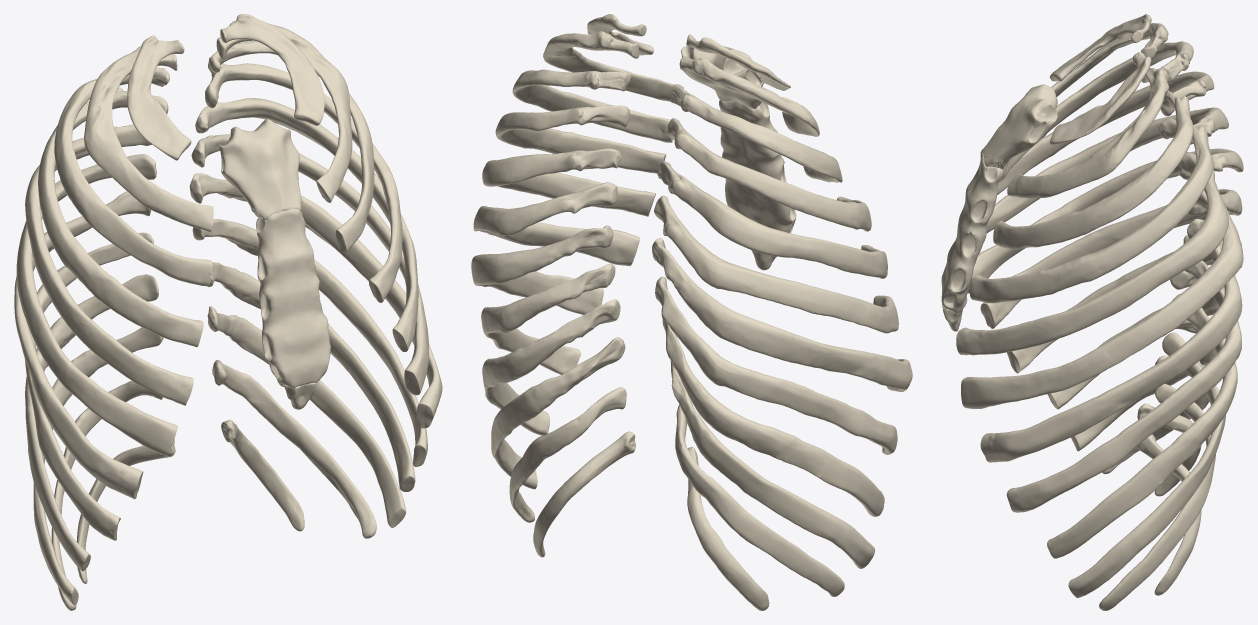
The model's file is region-3.glb.
3 views of the same model, side by side, from view 1: azimuth 30°, elevation 25°; view 2: azimuth 150°, elevation 25°; view 3: azimuth 270°, elevation 25° (orthographic). The views are drawn at different scales.
Visible parts, largest first — view 1: bone_sternum_M, bone_rib_06_R, bone_rib_04_R, bone_rib_05_R, bone_rib_03_R, bone_rib_02_R, bone_rib_07_R, bone_rib_05_L, bone_rib_08_L, bone_rib_10_L, bone_rib_07_L, bone_rib_11_L (+13 smaller); view 2: bone_rib_07_R, bone_rib_06_R, bone_rib_08_R, bone_sternum_M, bone_rib_09_R, bone_rib_05_R, bone_rib_10_R, bone_rib_06_L, bone_rib_05_L, bone_rib_04_L, bone_rib_07_L, bone_rib_11_R (+13 smaller); view 3: bone_rib_06_L, bone_rib_05_L, bone_rib_07_L, bone_sternum_M, bone_rib_04_L, bone_rib_08_L, bone_rib_03_L, bone_rib_09_L, bone_rib_10_L, bone_rib_02_L, bone_rib_07_R, bone_rib_11_L (+13 smaller).
Boxes of the visible parts, <box> form: bone_sternum_M: <box>219,119,330,409</box>; bone_rib_06_R: <box>16,154,177,456</box>; bone_rib_04_R: <box>38,87,203,347</box>; bone_rib_05_R: <box>25,124,193,405</box>; bone_rib_03_R: <box>54,67,212,286</box>; bone_rib_02_R: <box>84,46,213,232</box>; bone_rib_07_R: <box>14,191,151,499</box>; bone_rib_05_L: <box>195,98,418,351</box>; bone_rib_08_L: <box>192,219,427,466</box>; bone_rib_10_L: <box>207,306,406,527</box>; bone_rib_07_L: <box>189,173,442,428</box>; bone_rib_11_L: <box>212,360,376,538</box>; bone_rib_07_R: <box>652,238,912,391</box>; bone_rib_06_R: <box>654,195,898,333</box>; bone_rib_08_R: <box>655,276,897,454</box>; bone_sternum_M: <box>681,41,796,270</box>; bone_rib_09_R: <box>662,319,884,516</box>; bone_rib_05_R: <box>657,161,887,278</box>; bone_rib_10_R: <box>670,360,875,568</box>; bone_rib_06_L: <box>473,182,639,266</box>; bone_rib_05_L: <box>482,148,655,216</box>; bone_rib_04_L: <box>495,105,666,173</box>; bone_rib_07_L: <box>471,225,613,314</box>; bone_rib_11_R: <box>675,404,844,596</box>; bone_rib_06_L: <box>961,186,1243,408</box>; bone_rib_05_L: <box>956,152,1228,355</box>; bone_rib_07_L: <box>980,219,1242,462</box>; bone_sternum_M: <box>941,84,1057,331</box>; bone_rib_04_L: <box>969,118,1214,303</box>; bone_rib_08_L: <box>1006,260,1241,512</box>; bone_rib_03_L: <box>993,90,1193,249</box>; bone_rib_09_L: <box>1047,293,1237,558</box>; bone_rib_10_L: <box>1068,332,1225,598</box>; bone_rib_02_L: <box>1007,68,1168,198</box>; bone_rib_07_R: <box>980,189,1242,328</box>; bone_rib_11_L: <box>1099,383,1215,610</box>.
Size of the model in its own units: 0.2732 by 0.3777 by 0.203.
